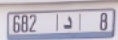2: (28, 13, 38, 33)
6: (11, 15, 20, 33)
8: (99, 12, 109, 31), (21, 14, 28, 32)
d: (61, 14, 74, 29)
